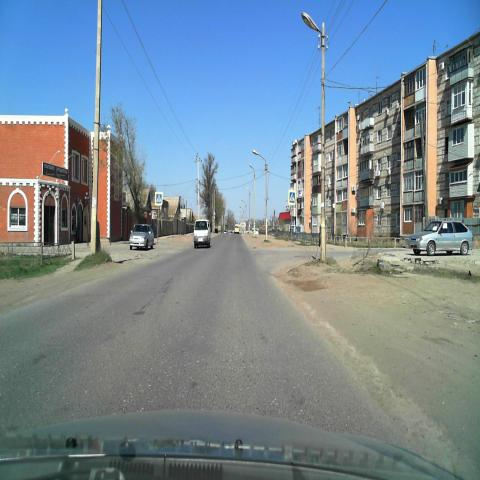5_19_1: (155, 191, 163, 206), (288, 190, 296, 204)
